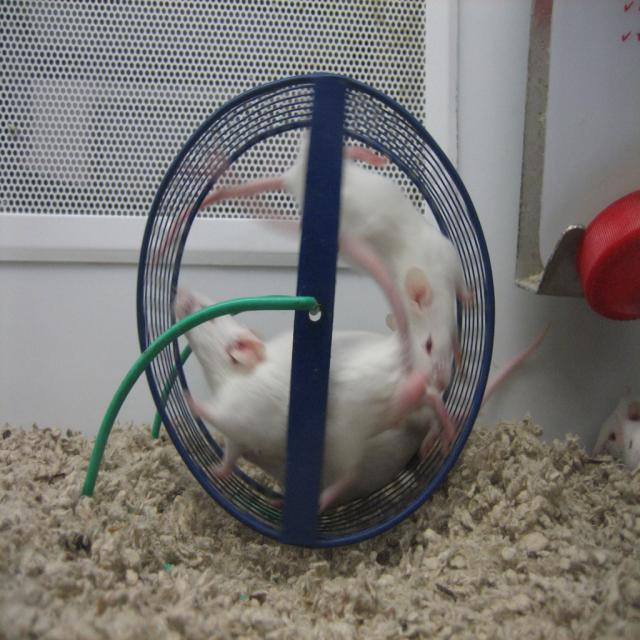rat: (149, 117, 476, 390), (173, 236, 458, 519)
